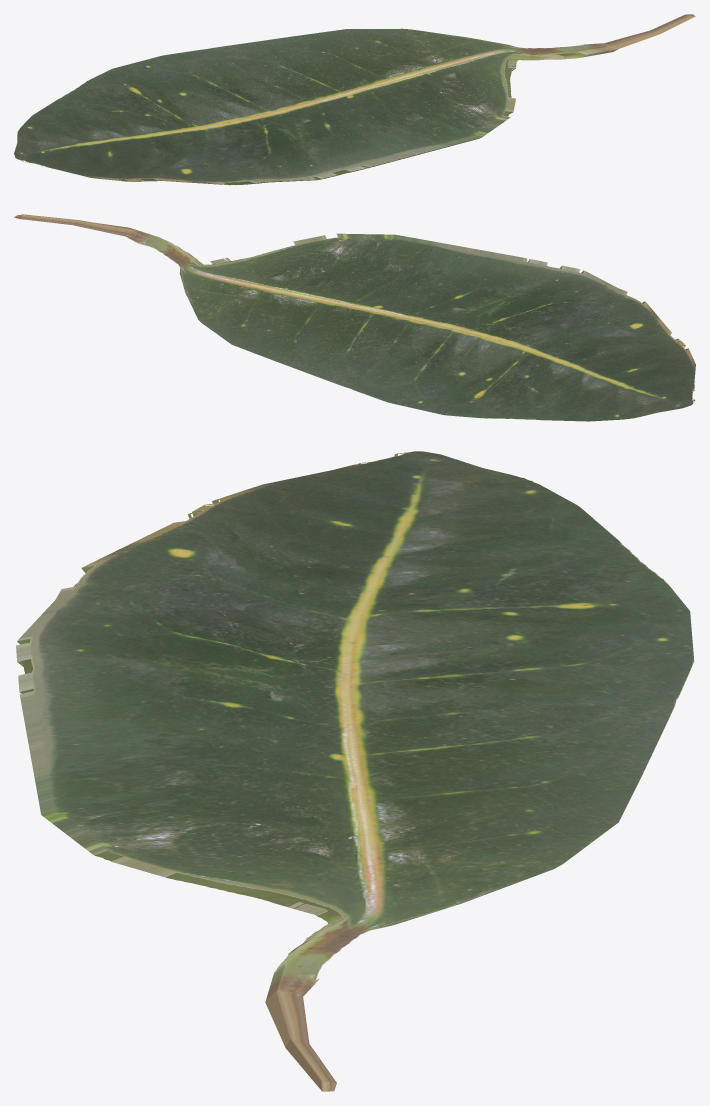
Rendered from Leaf.fbx.
3 views of the same model, one above another, from view 1: azimuth 30°, elevation 25°; view 2: azimuth 150°, elevation 25°; view 3: azimuth 270°, elevation 25° (orthographic). The views are drawn at different scales.
Parts seen in each view (by area): view 1: pPlane1; view 2: pPlane1; view 3: pPlane1.
Boxes of the visible parts, x1,y1,x2,y2 form: pPlane1: [14, 14, 695, 185]; pPlane1: [14, 214, 695, 421]; pPlane1: [16, 451, 694, 1091].
Bounding box in the file's own units: 1.15 × 0.0116 × 0.5143.
